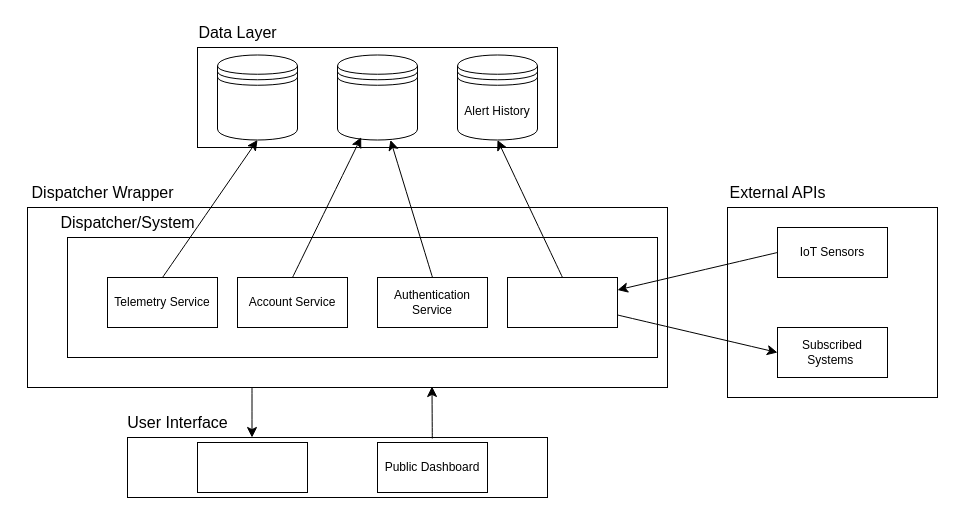
Image size: 955x515. Some labels were removed from this diagram. The shapes that lost their labels are listed below. From the top down, each one's centre as x and y in pixels, then its label:
(257,97): Telemetry Data
(377,97): Account
(562,302): Alert Service
(252,467): City Operator Dashboard
